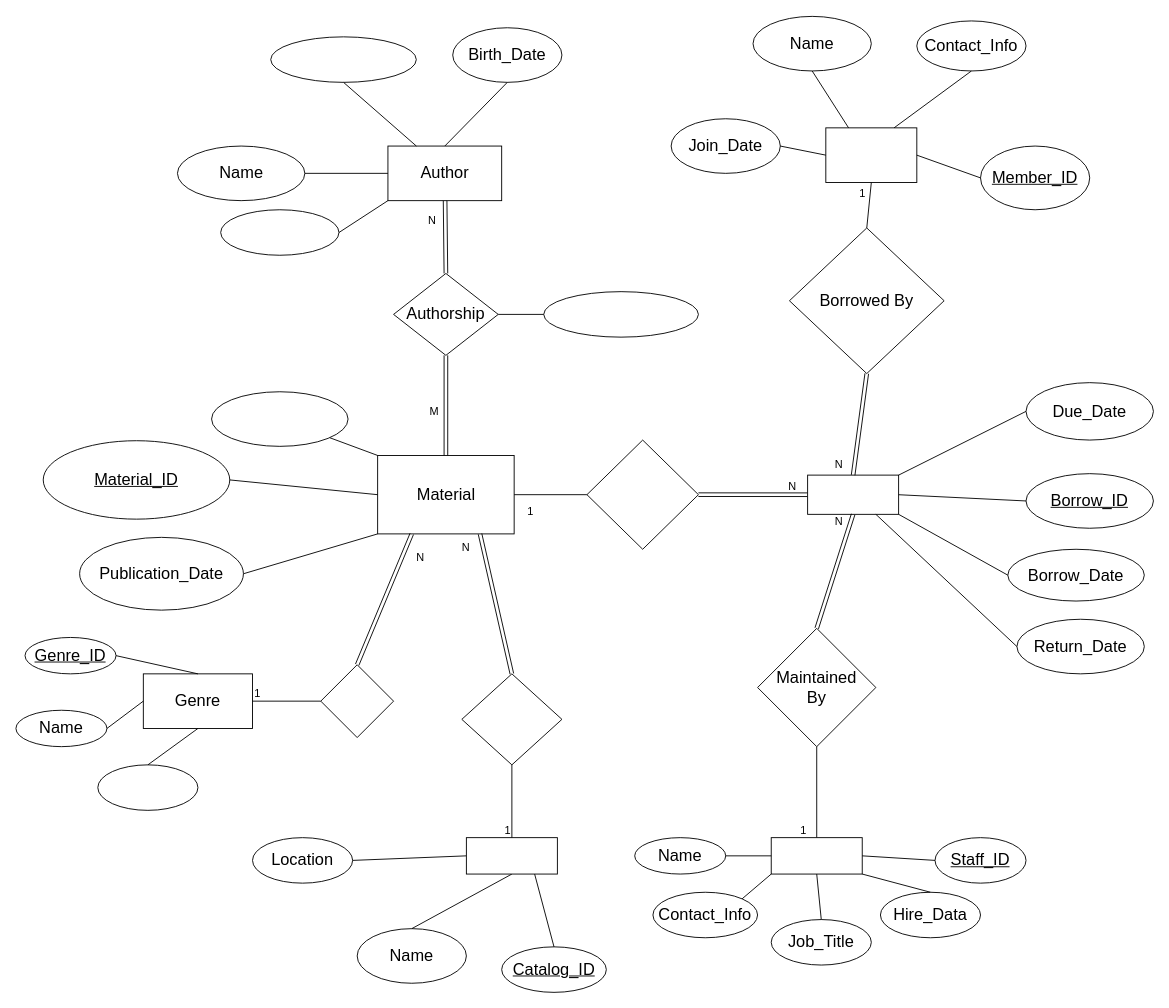
The diagram is 1169 pixels wide and 1008 high, and some of its shapes have lost their labels. The box of each missing label's shape, as (x1, y1, x2, y2) in pixels:
Author_ID: (220, 209, 339, 255)
Authorship_ID: (543, 291, 698, 337)
Borrow: (807, 474, 899, 514)
Catalog: (465, 837, 557, 874)
Description: (97, 764, 198, 810)
Member: (825, 127, 917, 182)
Nationality: (270, 36, 416, 82)
Related to: (461, 673, 562, 765)
Staff: (770, 837, 862, 874)
Taking from: (586, 439, 698, 549)
Title: (211, 391, 348, 446)
Type of: (320, 664, 394, 738)
